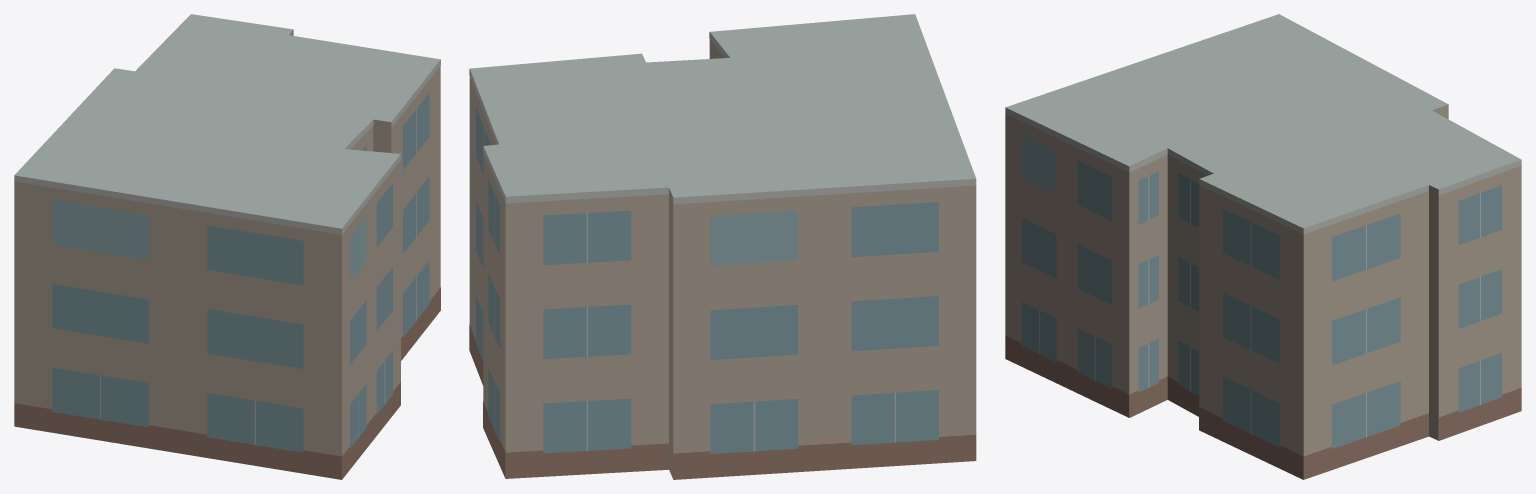
File: survey-upis-32891929.glb
3 renders of one model, left to right at view 1: azimuth 30°, elevation 25°; view 2: azimuth 150°, elevation 25°; view 3: azimuth 270°, elevation 25°, orthographic. The views are drawn at different scales.
Parts seen in each view (by area): view 1: survey-upis-32891929.tmp; view 2: survey-upis-32891929.tmp; view 3: survey-upis-32891929.tmp.
Part boxes in pixels (x1,y1,x2,y2): survey-upis-32891929.tmp: (14, 14, 440, 479); survey-upis-32891929.tmp: (469, 14, 976, 479); survey-upis-32891929.tmp: (1005, 14, 1521, 479).
Bounding box in the file's own units: 18.66 × 10.2 × 18.98.
